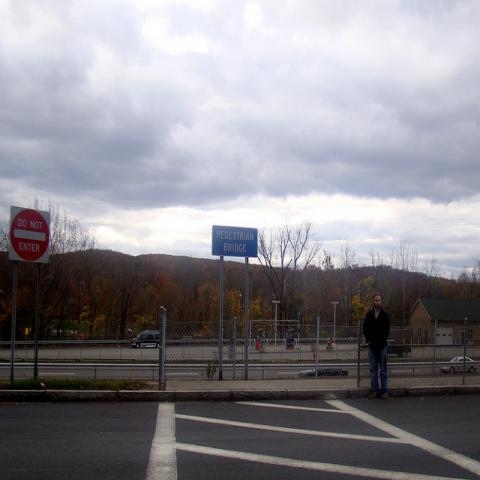car: (440, 357, 478, 375), (130, 330, 160, 348), (298, 369, 349, 378), (387, 340, 412, 357)
